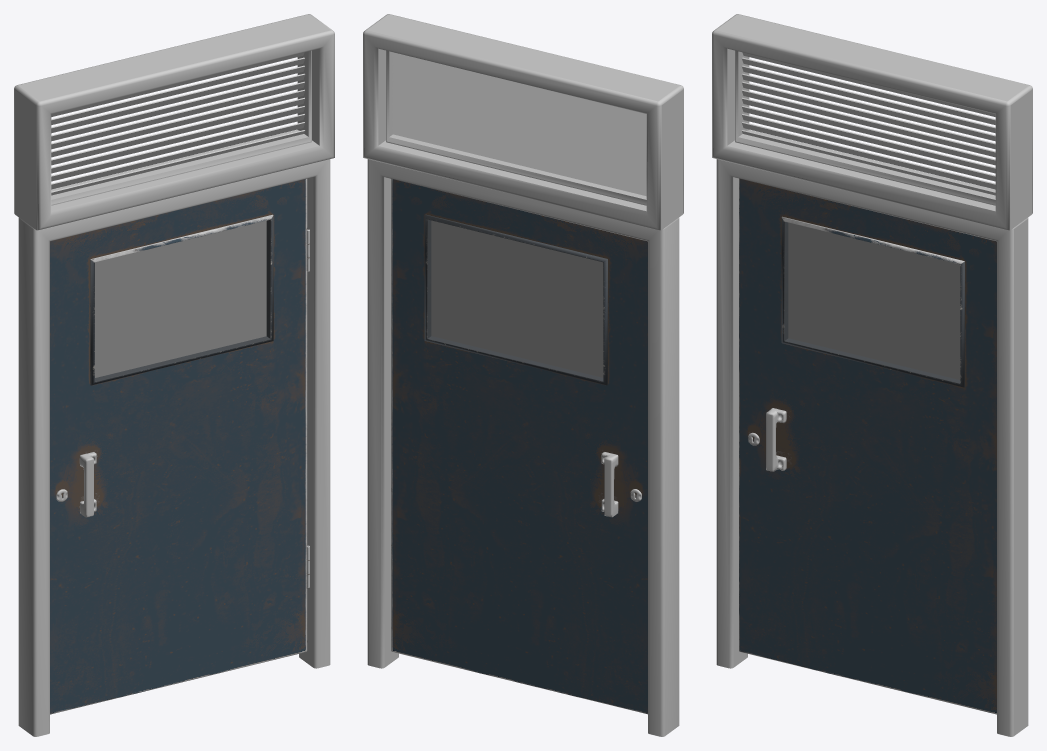
The model's file is DoorSingle.fbx.
The picture shows the model from 3 angles, left to right: view 1: azimuth 30°, elevation 25°; view 2: azimuth 150°, elevation 25°; view 3: azimuth 330°, elevation 25°; orthographic projection.
Parts seen in each view (by area): view 1: DoorSingle, DoorSingle_Vent, DoorSingle_Frame; view 2: DoorSingle, DoorSingle_Vent, DoorSingle_Frame; view 3: DoorSingle, DoorSingle_Vent, DoorSingle_Frame.
Part boxes in pixels (x1,y1,x2,y2): DoorSingle: (50,179,307,714); DoorSingle_Vent: (14,14,334,230); DoorSingle_Frame: (18,159,330,736); DoorSingle: (391,179,647,714); DoorSingle_Vent: (363,14,683,230); DoorSingle_Frame: (367,159,679,736); DoorSingle: (739,178,996,714); DoorSingle_Vent: (712,14,1032,230); DoorSingle_Frame: (716,159,1028,736).
Bounding box in the file's own units: 1.49 × 3.04 × 0.2205.
